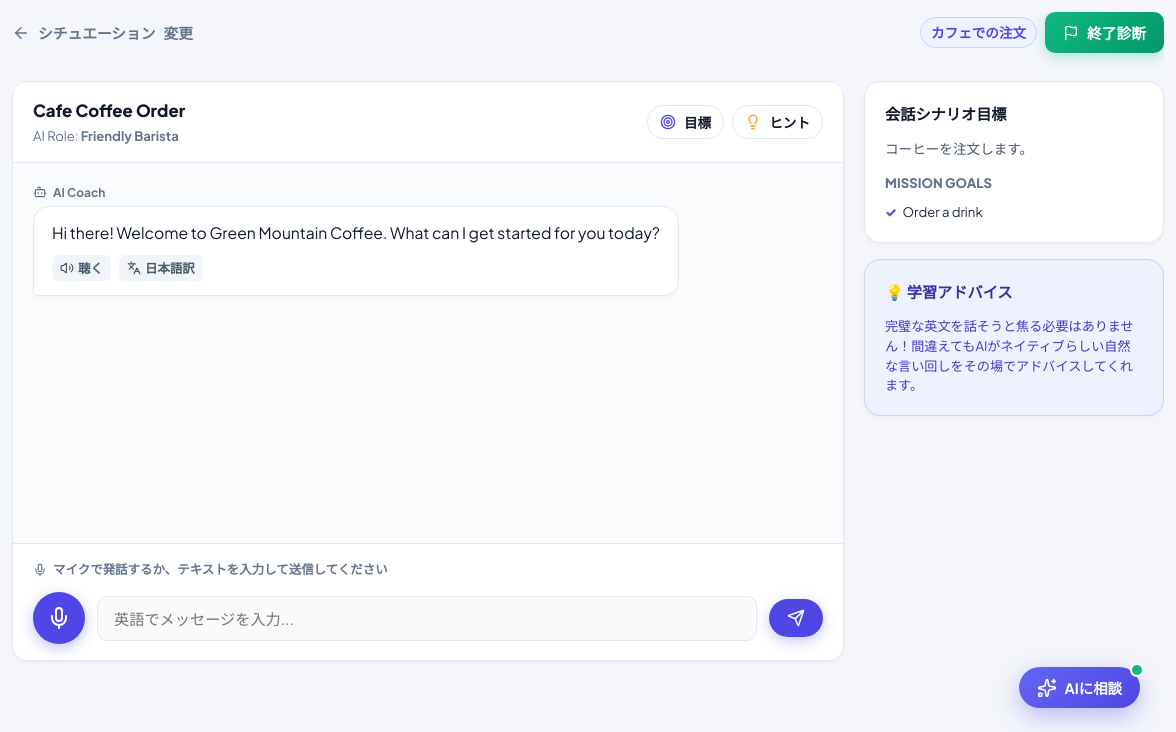
it: ChatRoom component › appends speech recognition result to existing input text without overwriting on subsequent input
The image size is (1176, 732).
// User types manual text
Type "I would like" into the field with placeholder "英語でメッセージを入力..." at (427, 618), box [97,596,757,640]
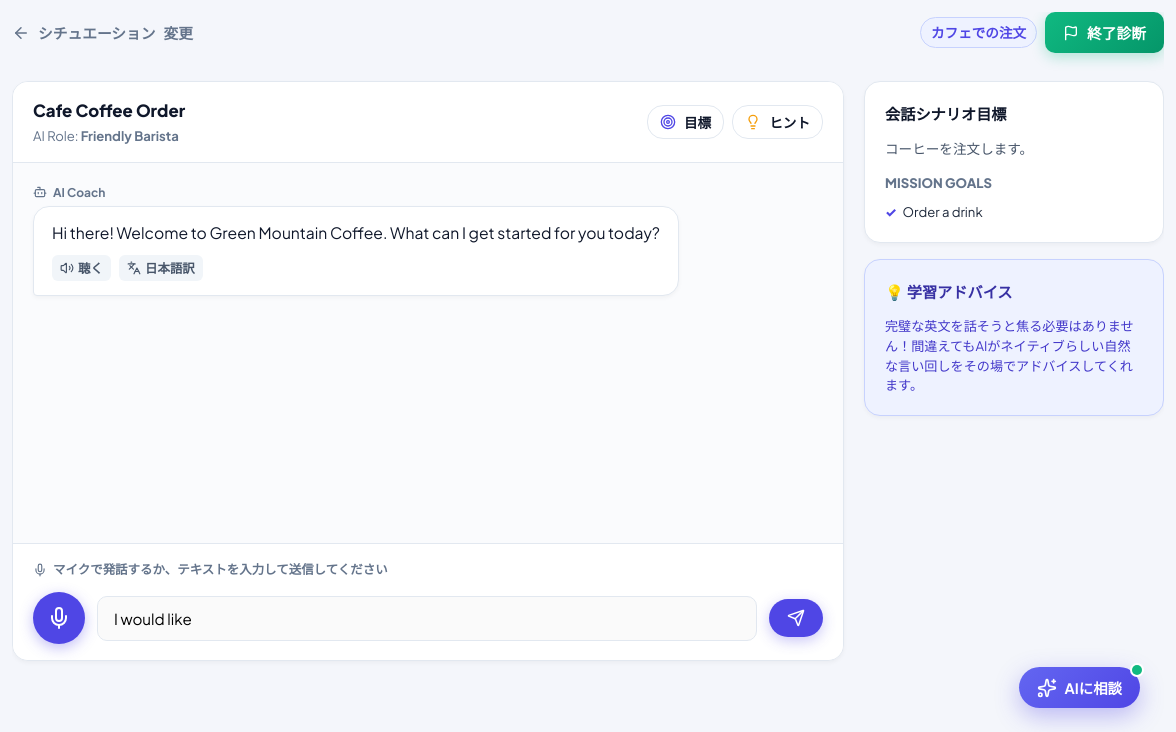
// Start recording
Click the button named "マイクで英語を話す" at (59, 618), box [33,592,85,644]
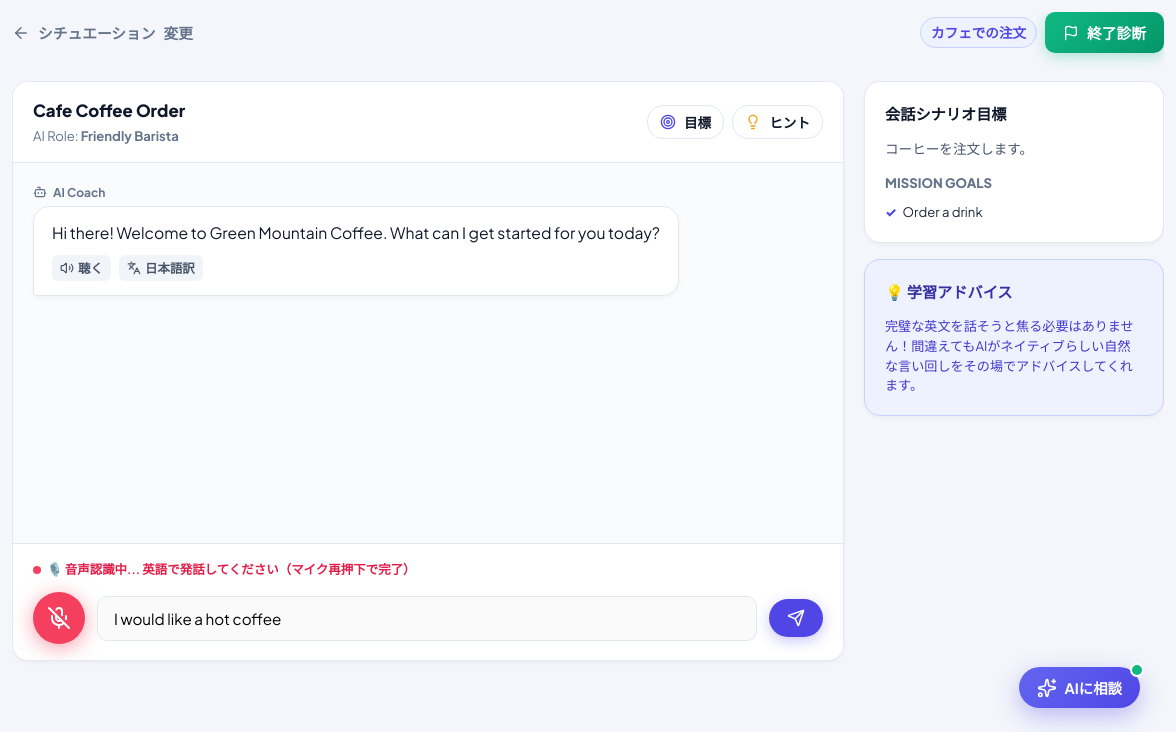
Check: the field with placeholder "英語でメッセージを入力" holds "I would like a hot coffee", box [97,596,757,640]
// Stop recording
Click the button named "録音停止" at (59, 618), box [33,592,85,644]
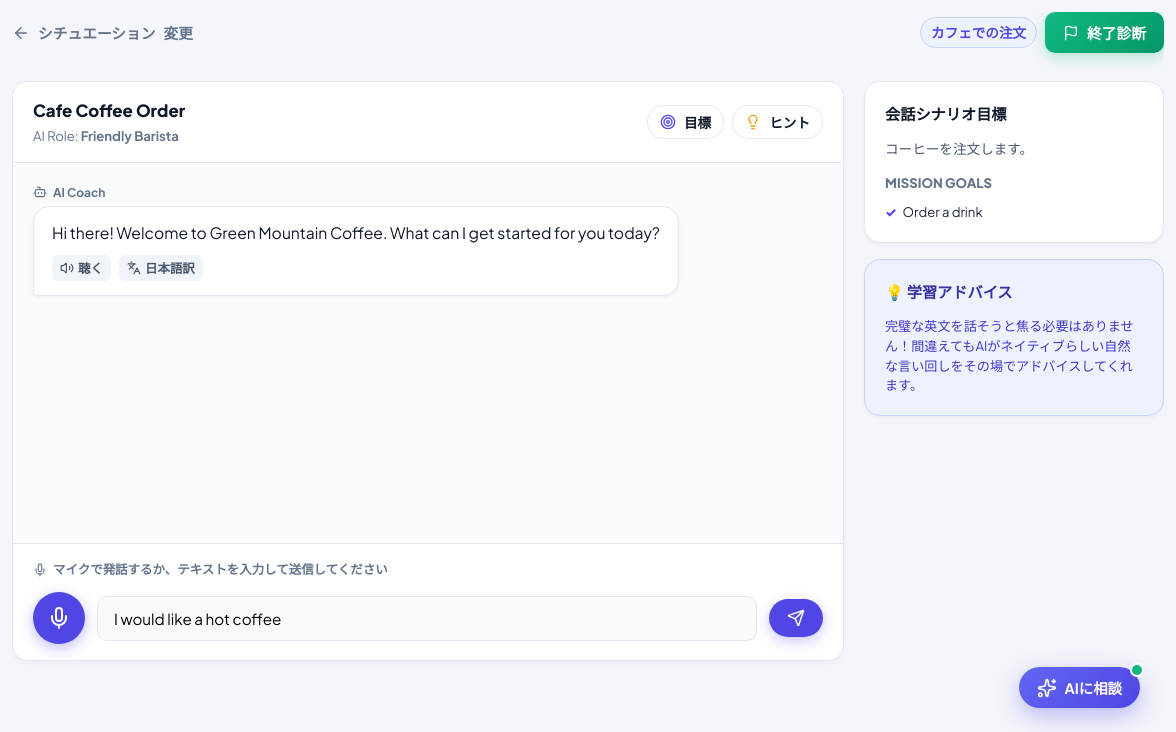
// Start recording AGAIN to add more text
Click the button named "マイクで英語を話す" at (59, 618), box [33,592,85,644]
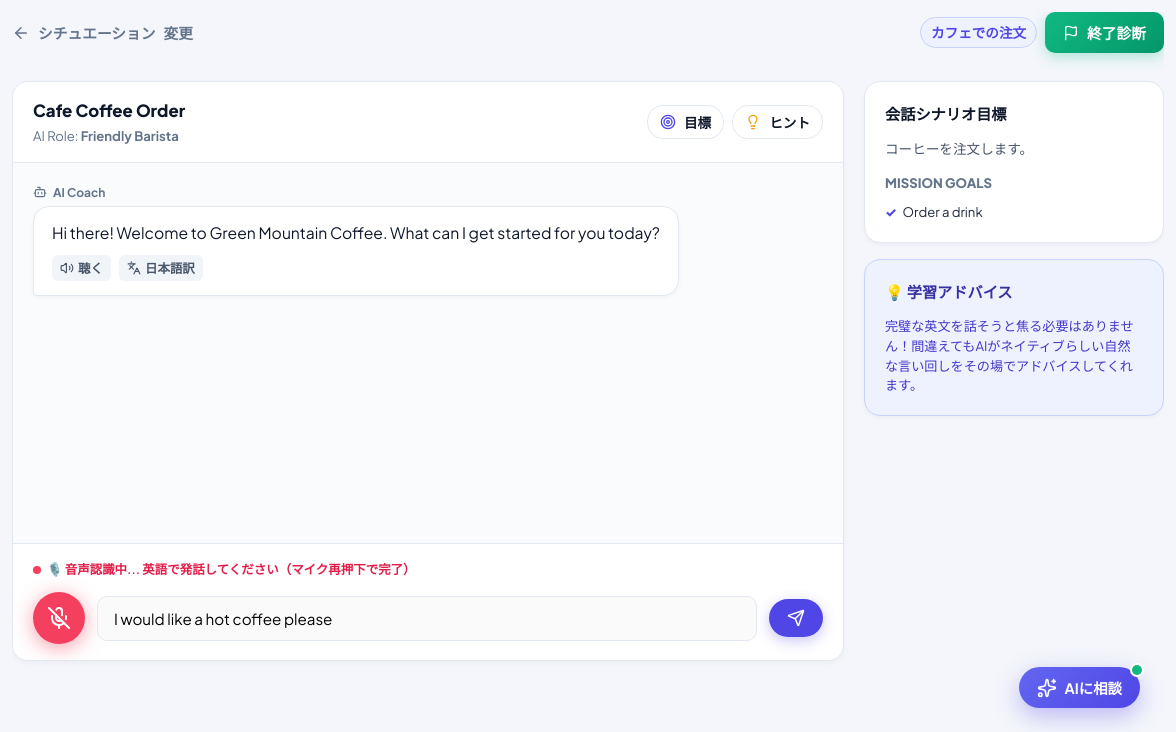
Check: the field with placeholder "英語でメッセージを入力" holds "I would like a hot coffee please", box [97,596,757,640]
